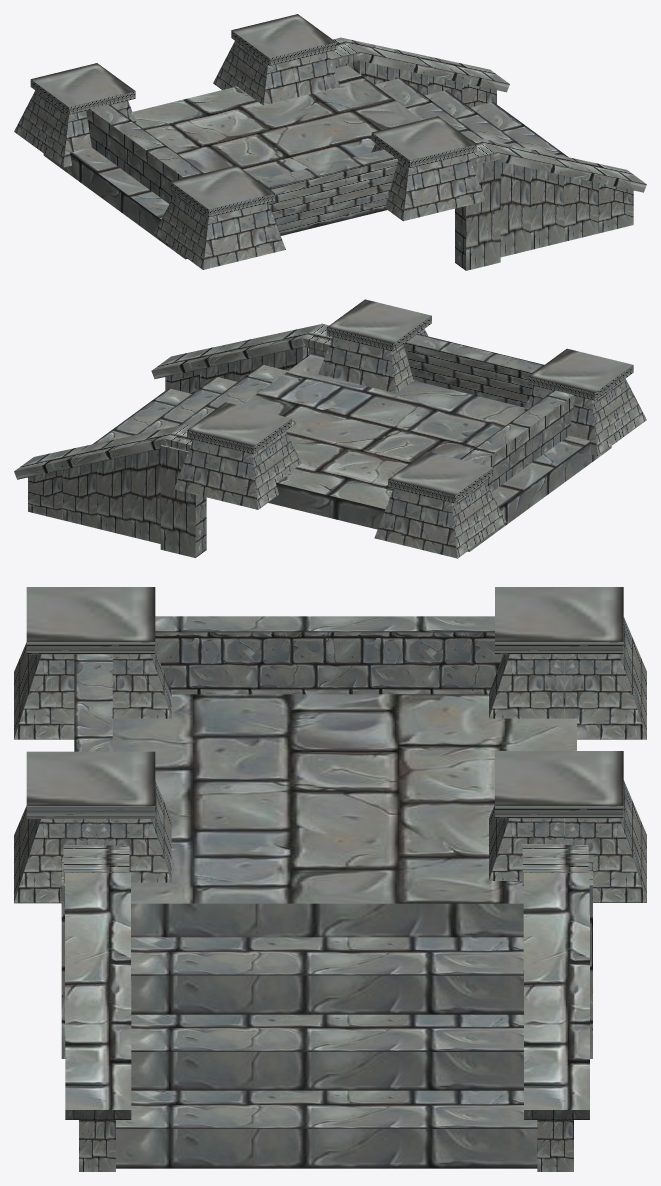
File: Staircurf right.fbx
3 views of the same model, one above another, from view 1: azimuth 30°, elevation 25°; view 2: azimuth 150°, elevation 25°; view 3: azimuth 270°, elevation 25° (orthographic). The views are drawn at different scales.
Visible parts, largest first — view 1: Cube.011; view 2: Cube.011; view 3: Cube.011.
Boxes of the visible parts, bbox=[...] form: Cube.011: bbox=[14, 14, 646, 270]; Cube.011: bbox=[14, 299, 646, 558]; Cube.011: bbox=[14, 587, 646, 1171].
Bounding box in the file's own units: 6.55 × 1.83 × 4.67.
Materials: 4 (4 with a texture image).
